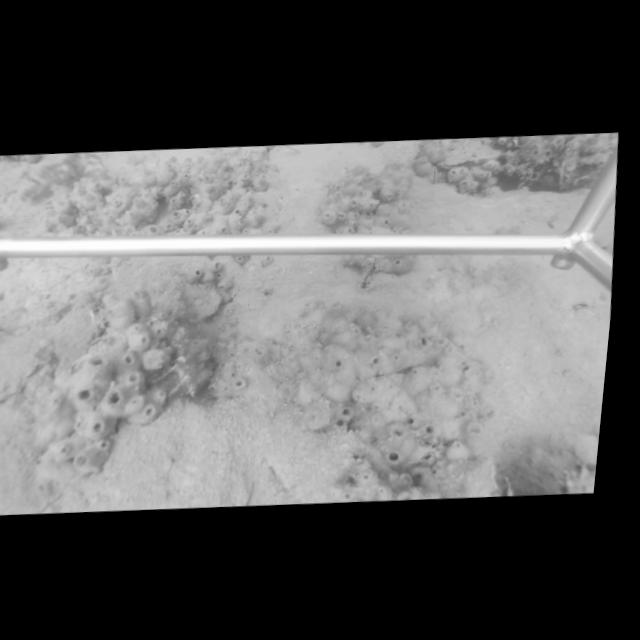Oyster-Closed: (440, 141, 504, 169)
Oyster-Indeterminate: (181, 278, 224, 327)
